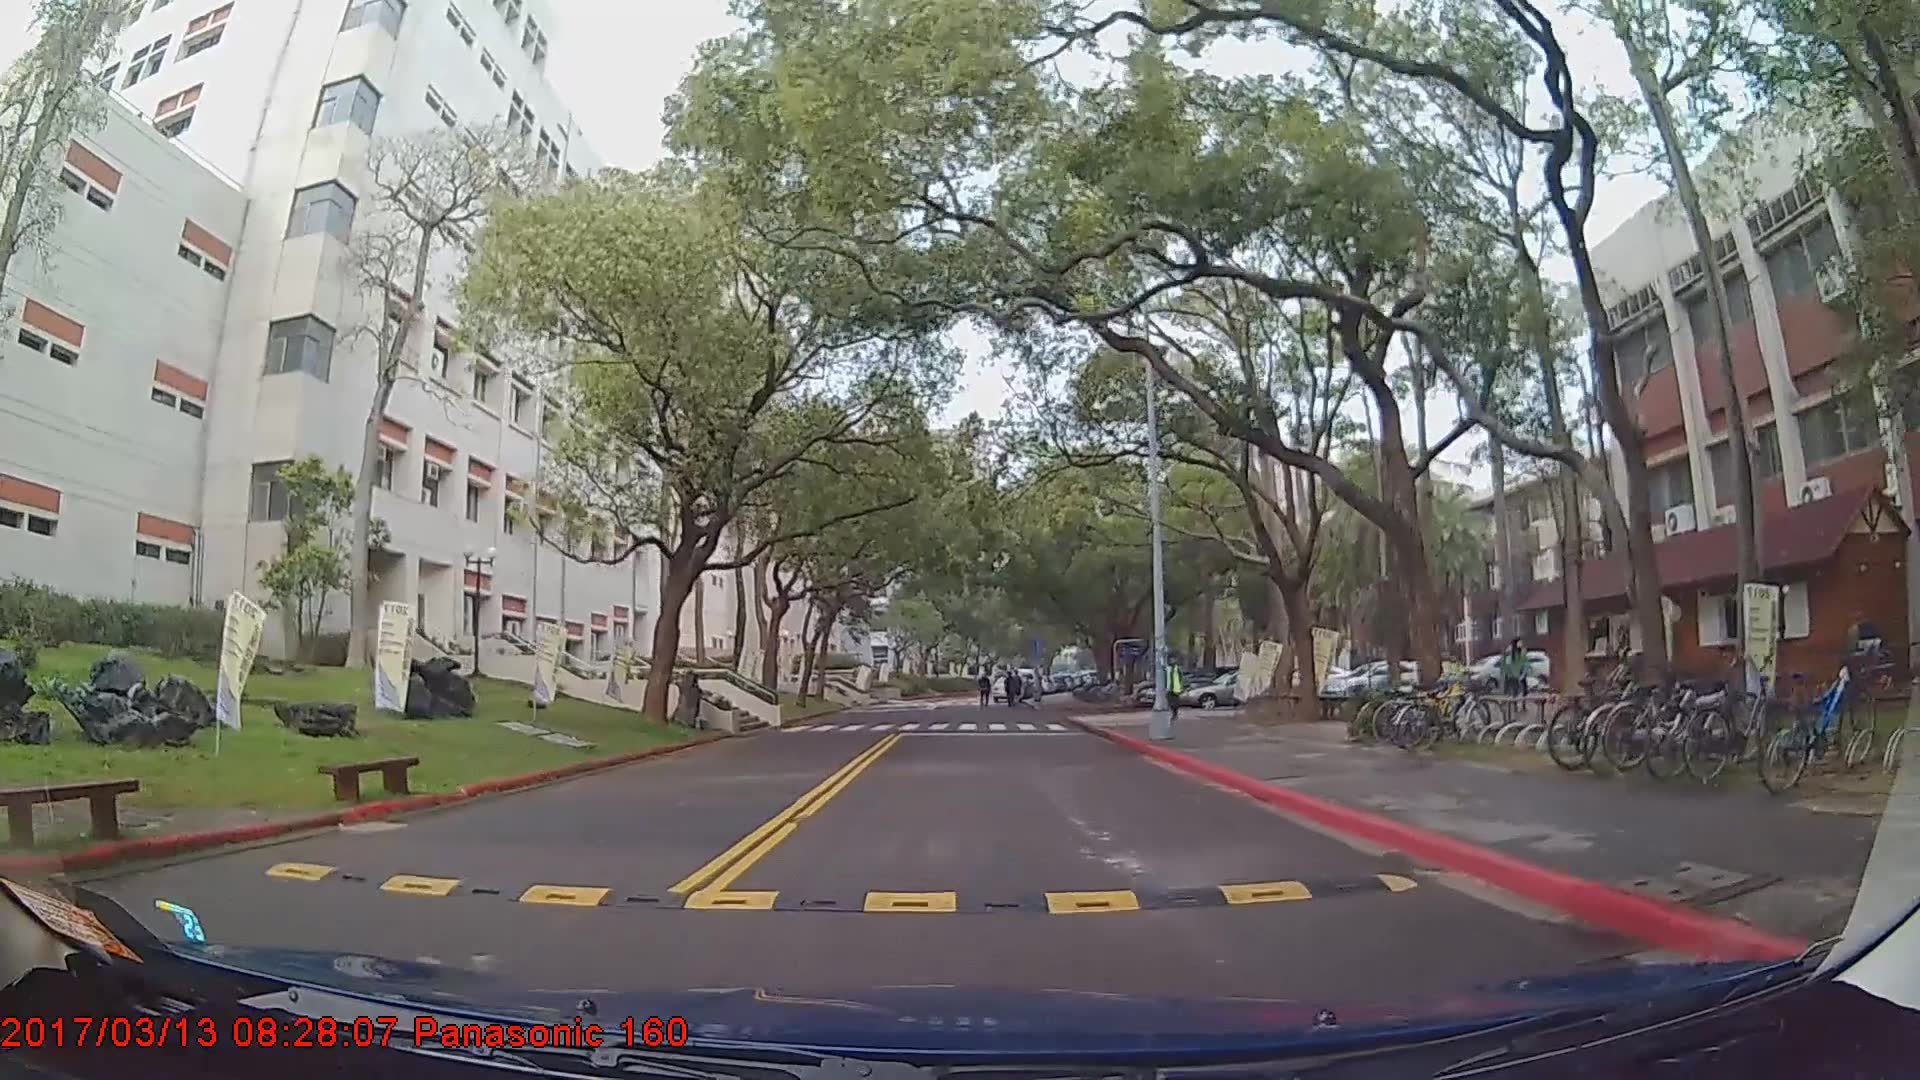vehicle: (1320, 658, 1427, 704), (1180, 667, 1300, 707)
